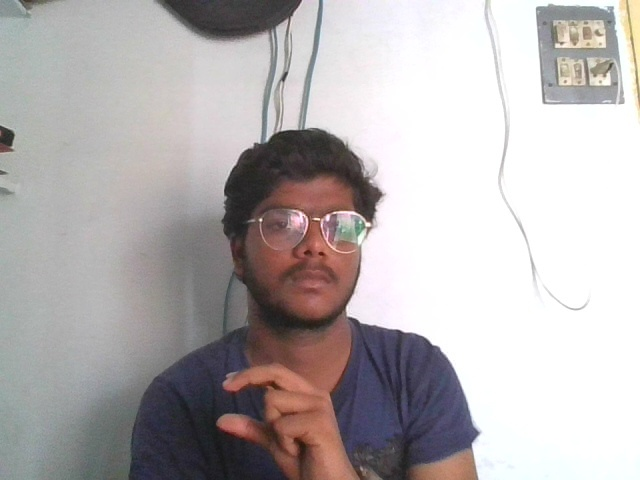No: (210, 353, 359, 475)
